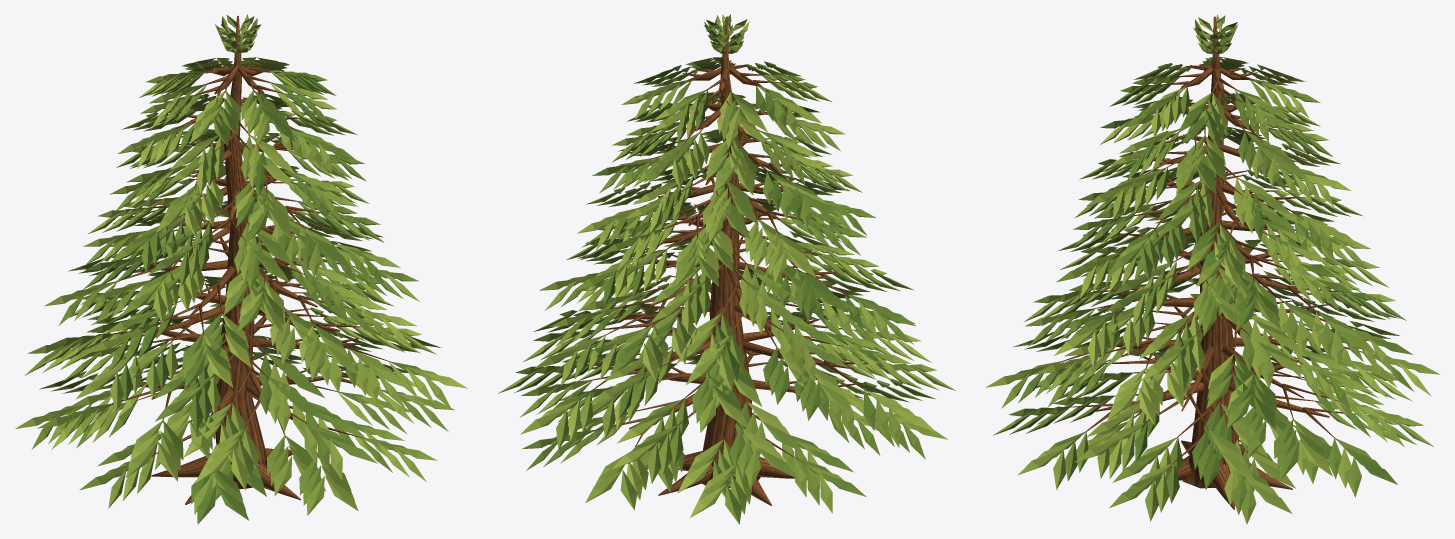
Rendered from SculptedSpruce_LOD1.glb.
3 views of the same model, side by side, from view 1: azimuth 30°, elevation 25°; view 2: azimuth 150°, elevation 25°; view 3: azimuth 270°, elevation 25° (orthographic).
Visible parts, largest first — view 1: SM_SculptedSpruce_Foliage_LOD1, SM_SculptedSpruce_Bark_LOD1; view 2: SM_SculptedSpruce_Foliage_LOD1, SM_SculptedSpruce_Bark_LOD1; view 3: SM_SculptedSpruce_Foliage_LOD1, SM_SculptedSpruce_Bark_LOD1.
Boxes of the visible parts, bbox=[...] form: SM_SculptedSpruce_Foliage_LOD1: bbox=[15, 14, 467, 524]; SM_SculptedSpruce_Bark_LOD1: bbox=[107, 16, 392, 504]; SM_SculptedSpruce_Foliage_LOD1: bbox=[498, 14, 955, 524]; SM_SculptedSpruce_Bark_LOD1: bbox=[575, 16, 880, 505]; SM_SculptedSpruce_Foliage_LOD1: bbox=[985, 14, 1439, 524]; SM_SculptedSpruce_Bark_LOD1: bbox=[1061, 16, 1362, 509].
Bounding box in the file's own units: 7.84 × 8.65 × 7.79.
Materials: 2 (2 with a texture image).
